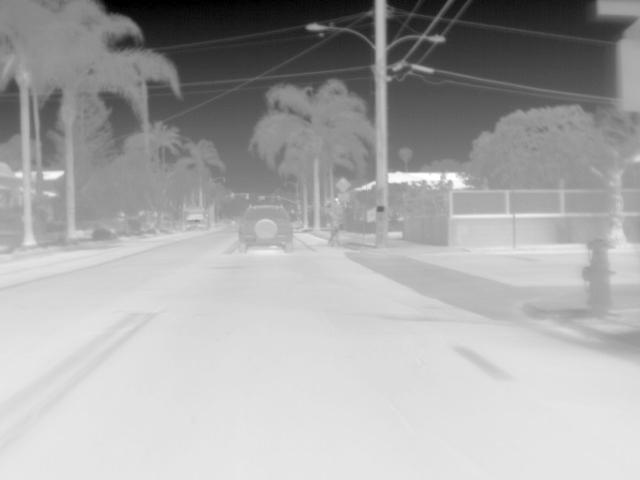car: (236, 203, 296, 255), (185, 209, 211, 231)
person: (326, 218, 342, 248)
